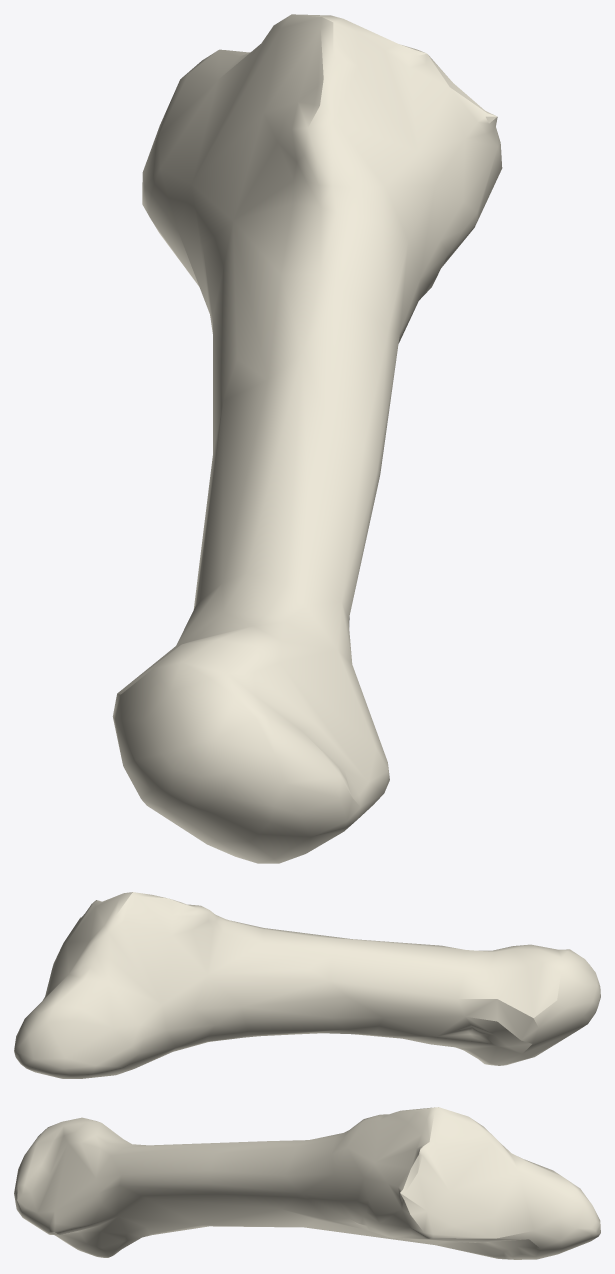
Rendered from fma24515_fj3359.glb.
3 views of the same model, one above another, from view 1: azimuth 30°, elevation 25°; view 2: azimuth 150°, elevation 25°; view 3: azimuth 270°, elevation 25° (orthographic). The views are drawn at different scales.
Parts seen in each view (by area): view 1: FMA24515_FJ3359; view 2: FMA24515_FJ3359; view 3: FMA24515_FJ3359.
Boxes of the visible parts, x1=… form: FMA24515_FJ3359: x1=112, y1=14, x2=502, y2=863; FMA24515_FJ3359: x1=14, y1=892, x2=600, y2=1078; FMA24515_FJ3359: x1=14, y1=1107, x2=600, y2=1259.
Size of the model in its own units: 0.0459 by 0.0299 by 0.0657.
